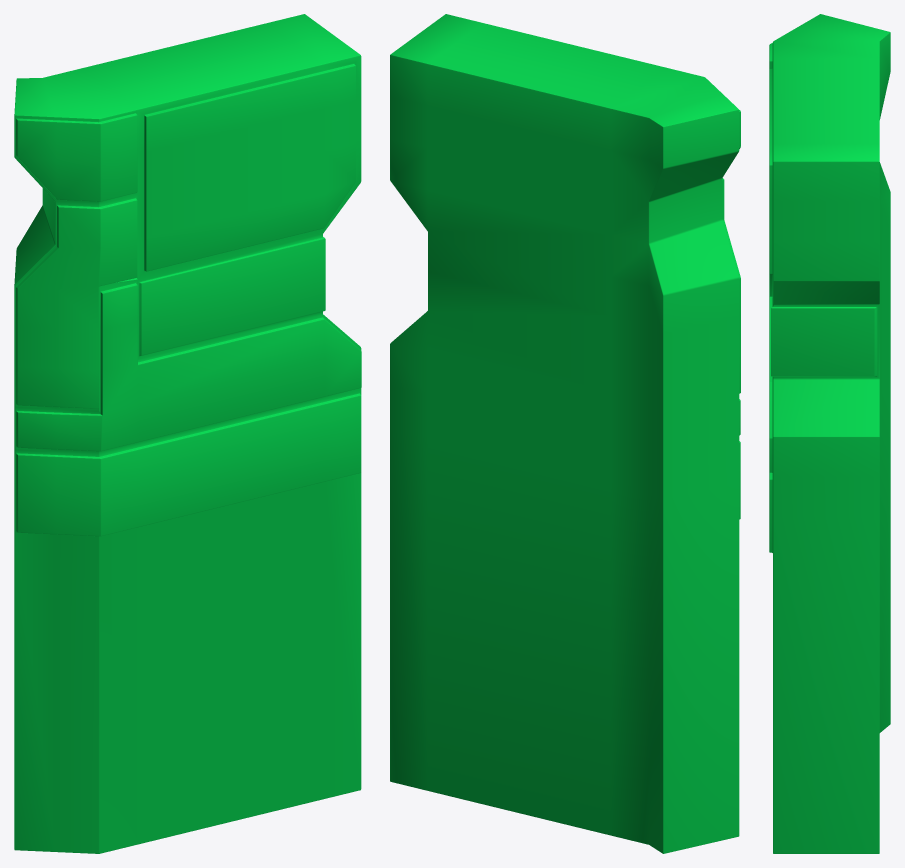
The model's file is Tower_01.fbx.
3 views of the same model, side by side, from view 1: azimuth 30°, elevation 25°; view 2: azimuth 150°, elevation 25°; view 3: azimuth 270°, elevation 25° (orthographic). The views are drawn at different scales.
Parts seen in each view (by area): view 1: Tower_01; view 2: Tower_01; view 3: Tower_01.
Part boxes in pixels (left/top/right/bottom): Tower_01: left=14, top=14, right=361, bottom=853; Tower_01: left=390, top=14, right=740, bottom=853; Tower_01: left=769, top=14, right=890, bottom=853.
Bounding box in the file's own units: 2082 × 4546 × 722.
